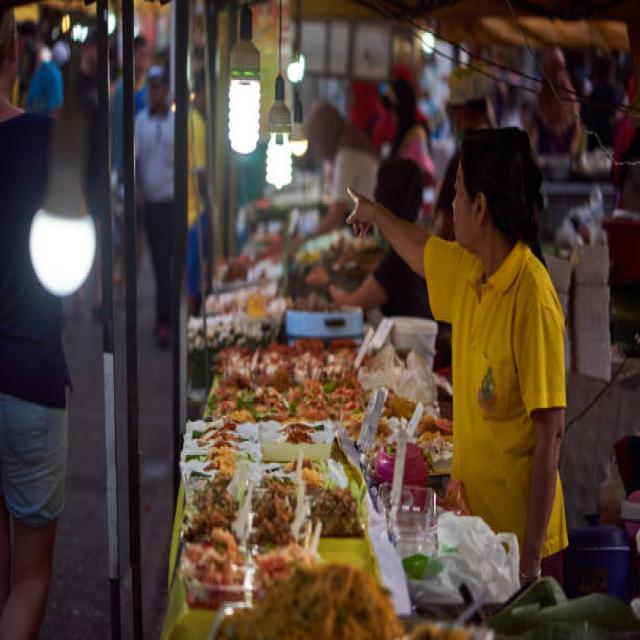Emperan: (125, 73, 638, 640)
